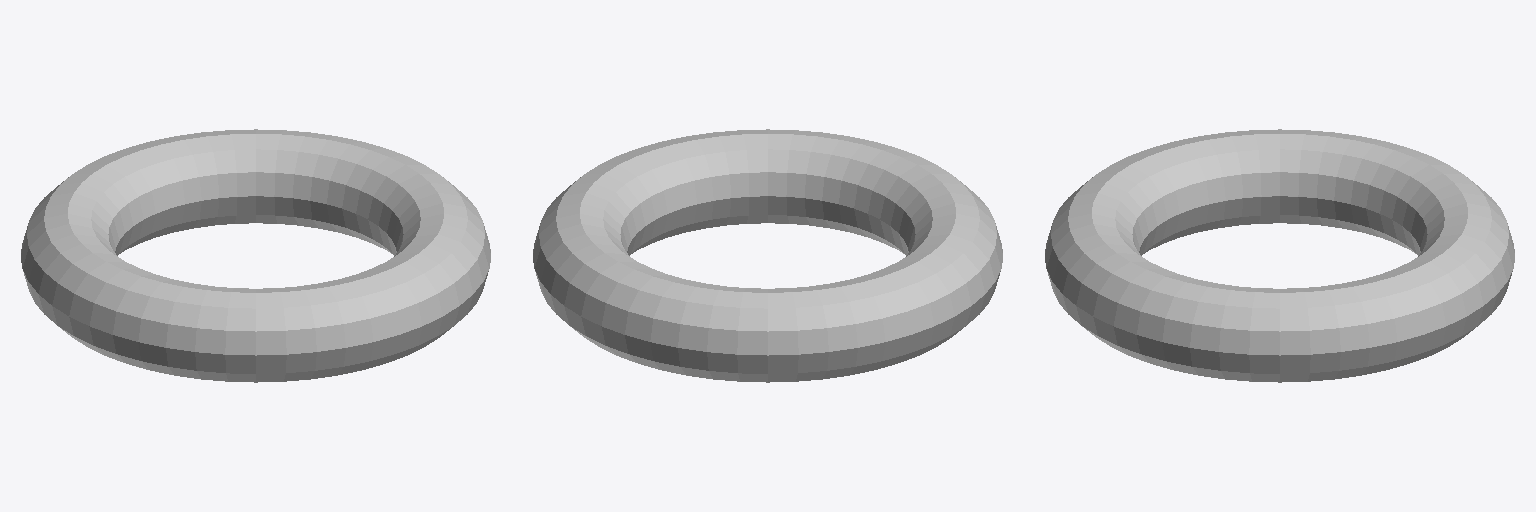
File: key1.obj
3 views of the same model, side by side, from view 1: azimuth 30°, elevation 25°; view 2: azimuth 150°, elevation 25°; view 3: azimuth 270°, elevation 25° (orthographic).
Visible parts, largest first — view 1: Torus.005; view 2: Torus.005; view 3: Torus.005.
Boxes of the visible parts, box(x1,y1,x2,y2) form: Torus.005: box(21, 129, 490, 382); Torus.005: box(533, 129, 1002, 382); Torus.005: box(1045, 129, 1514, 382).
Size of the model in its own units: 1.25 by 0.25 by 1.25.